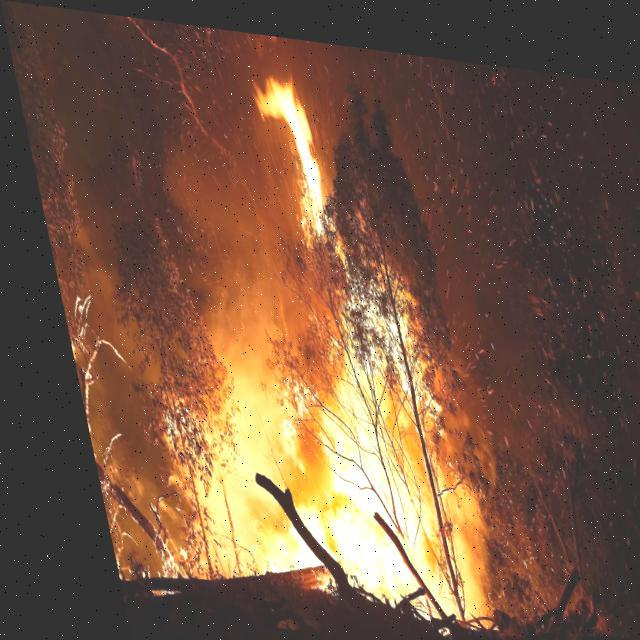Fire: (131, 322, 486, 624), (240, 57, 321, 198)
